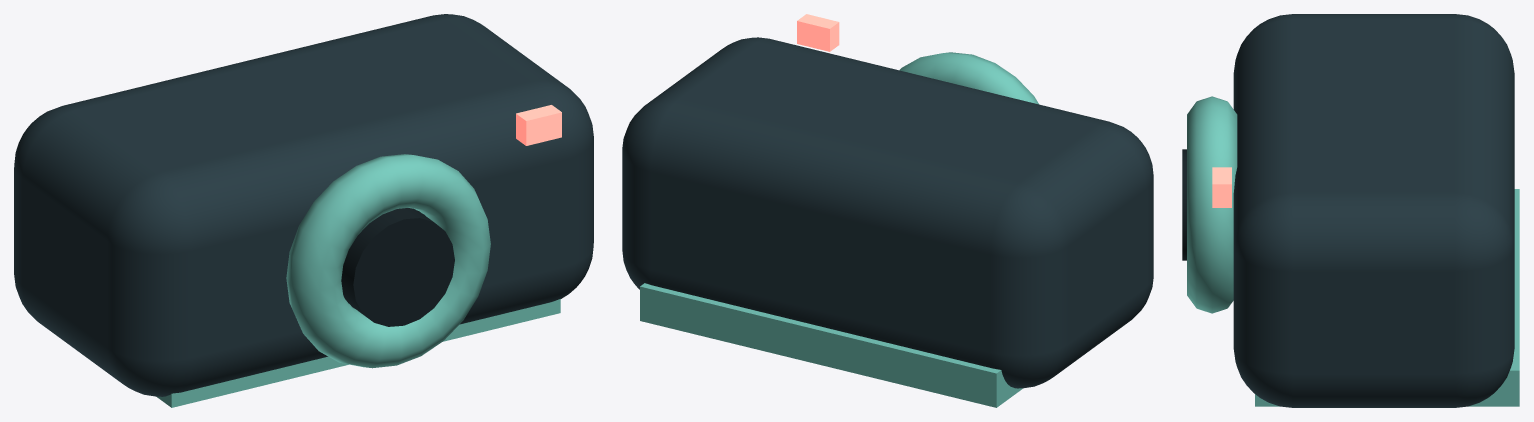
3 renders of one model, left to right at view 1: azimuth 30°, elevation 25°; view 2: azimuth 150°, elevation 25°; view 3: azimuth 270°, elevation 25°, orthographic. The views are drawn at different scales.
Visible parts, largest first — view 1: camera-body, camera-optic-ring, camera-lens, camera-foot, recording-led; view 2: camera-body, camera-foot, camera-optic-ring, recording-led; view 3: camera-body, camera-optic-ring, camera-foot, recording-led, camera-lens.
Boxes of the visible parts, left/top/right/bottom form: camera-body: left=14, top=14, right=593, bottom=396; camera-optic-ring: left=286, top=154, right=490, bottom=368; camera-lens: left=341, top=208, right=454, bottom=326; camera-foot: left=156, top=299, right=560, bottom=407; recording-led: left=516, top=105, right=561, bottom=145; camera-body: left=622, top=37, right=1153, bottom=388; camera-foot: left=640, top=283, right=1022, bottom=407; camera-optic-ring: left=899, top=52, right=1039, bottom=104; recording-led: left=797, top=14, right=839, bottom=51; camera-body: left=1233, top=14, right=1514, bottom=407; camera-optic-ring: left=1187, top=96, right=1237, bottom=313; camera-foot: left=1255, top=189, right=1519, bottom=406; recording-led: left=1212, top=167, right=1231, bottom=207; camera-lens: left=1182, top=149, right=1186, bottom=260.
Bounding box in the file's own units: 0.16 × 0.071 × 0.102.
